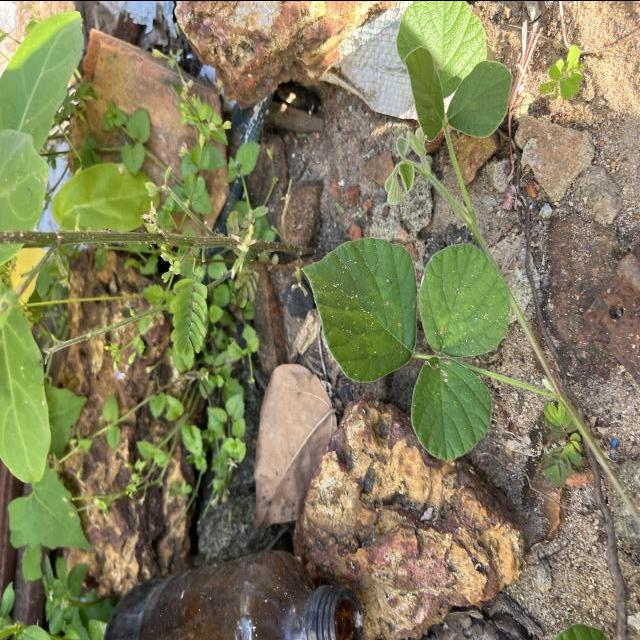Pseudarthria viscida: (298, 234, 512, 464)
